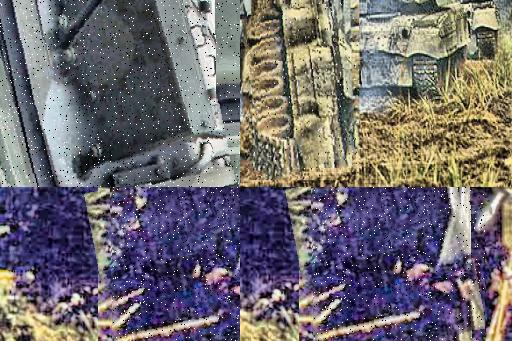tanks: (1, 1, 236, 188), (314, 188, 486, 341), (113, 188, 241, 341), (249, 2, 359, 180), (326, 1, 471, 99), (459, 1, 500, 60)
